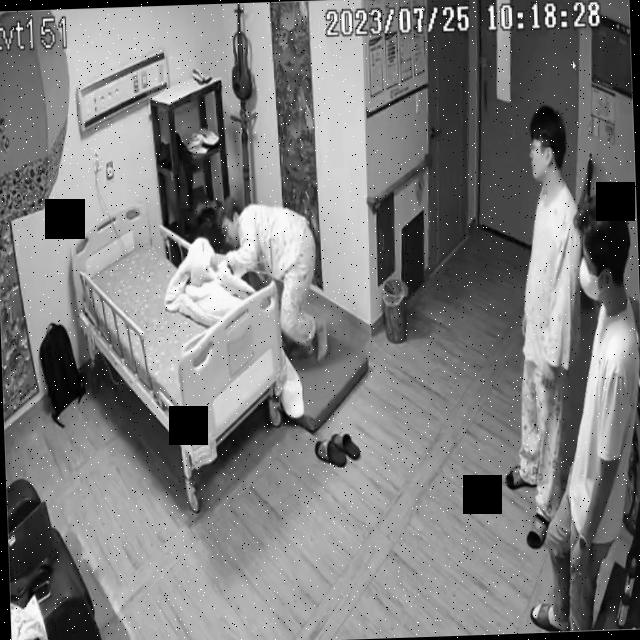danger: (216, 194, 330, 361)
patient: (492, 100, 589, 550), (216, 194, 330, 361)
stand: (517, 190, 640, 633), (493, 103, 588, 551)
